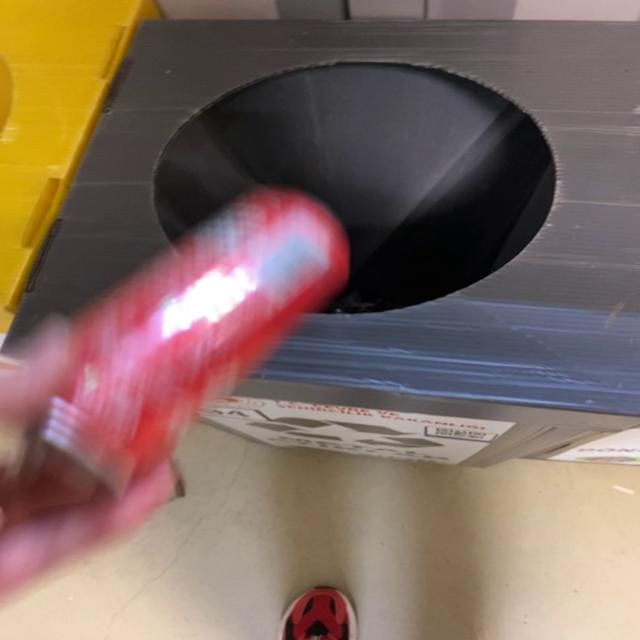bin: (8, 20, 639, 465), (9, 20, 639, 465)
metal: (0, 186, 348, 596)
